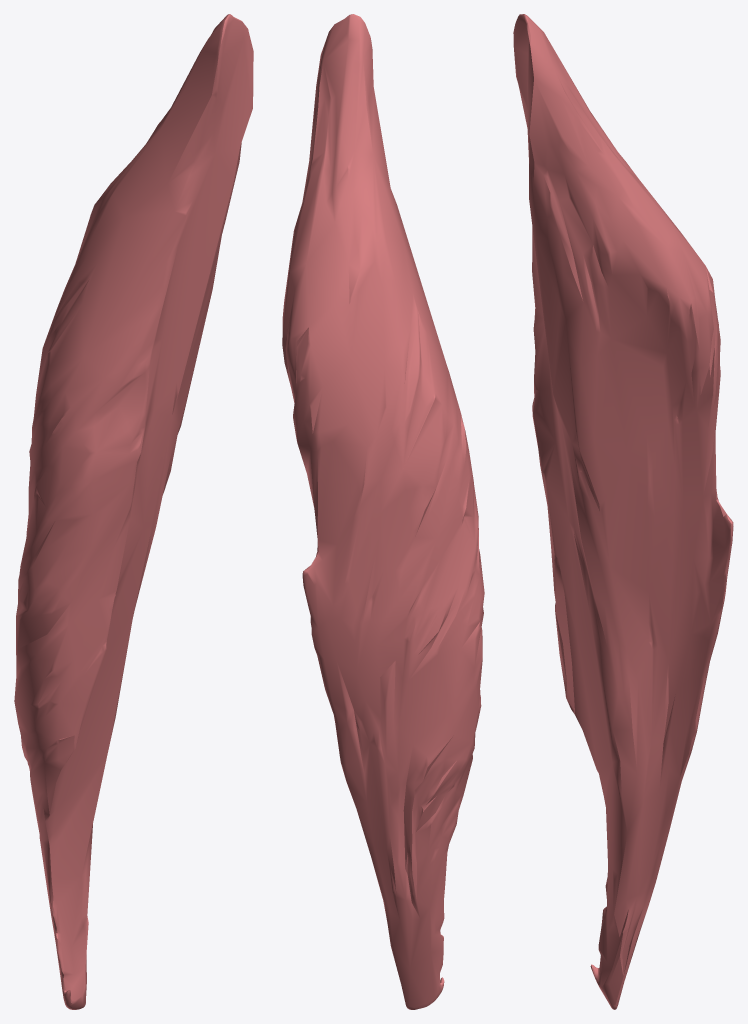
3 views of the same model, side by side, from view 1: azimuth 30°, elevation 25°; view 2: azimuth 150°, elevation 25°; view 3: azimuth 270°, elevation 25° (orthographic). The views are drawn at different scales.
Parts seen in each view (by area): view 1: FJ1477; view 2: FJ1477; view 3: FJ1477.
Boxes of the visible parts, box(x1,y1,x2,y2) form: FJ1477: box(14, 14, 253, 1009); FJ1477: box(282, 14, 484, 1009); FJ1477: box(513, 14, 733, 1009).
Size of the model in its own units: 0.0533 by 0.2548 by 0.0485.
